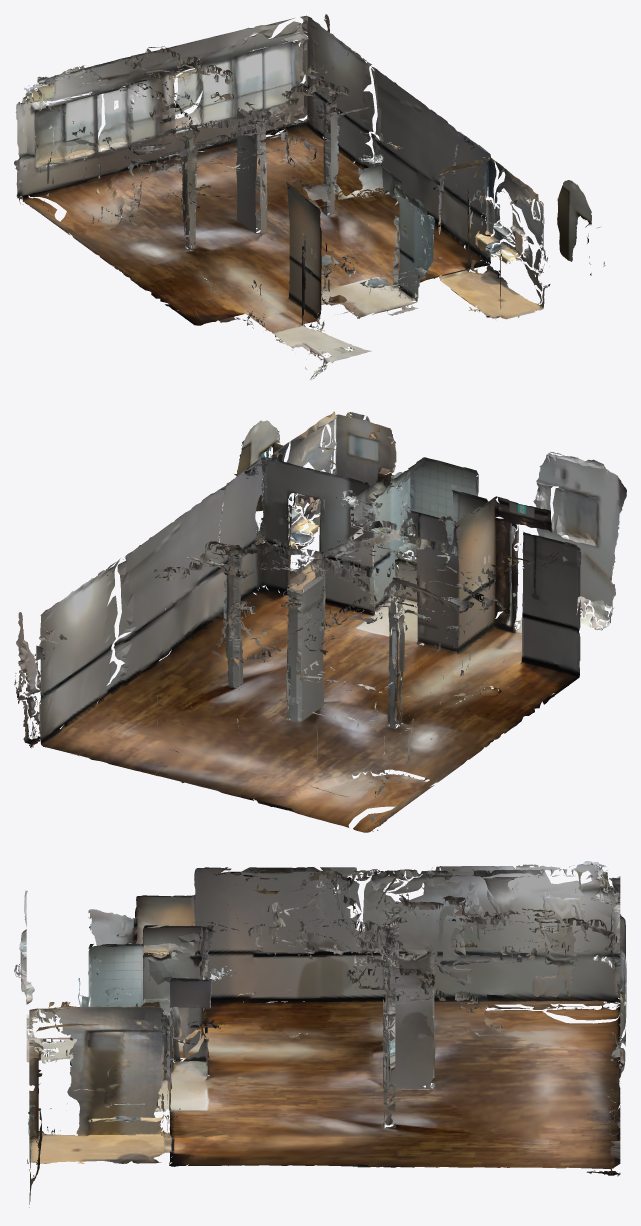
The model's file is scan_cleaned_mobile.glb.
The picture shows the model from 3 angles, top to bottom: view 1: azimuth 30°, elevation 25°; view 2: azimuth 150°, elevation 25°; view 3: azimuth 270°, elevation 25°; orthographic projection. The views are drawn at different scales.
Visible parts, largest first — view 1: Scaniverse_2026_10_26_113837.obj; view 2: Scaniverse_2026_10_26_113837.obj; view 3: Scaniverse_2026_10_26_113837.obj.
Part boxes in pixels (x1,y1,x2,y2): Scaniverse_2026_10_26_113837.obj: [14, 14, 605, 379]; Scaniverse_2026_10_26_113837.obj: [14, 411, 626, 832]; Scaniverse_2026_10_26_113837.obj: [14, 861, 626, 1207].
Bounding box in the file's own units: 8.1 × 3.06 × 9.83.
Materials: 1 (1 with a texture image).
